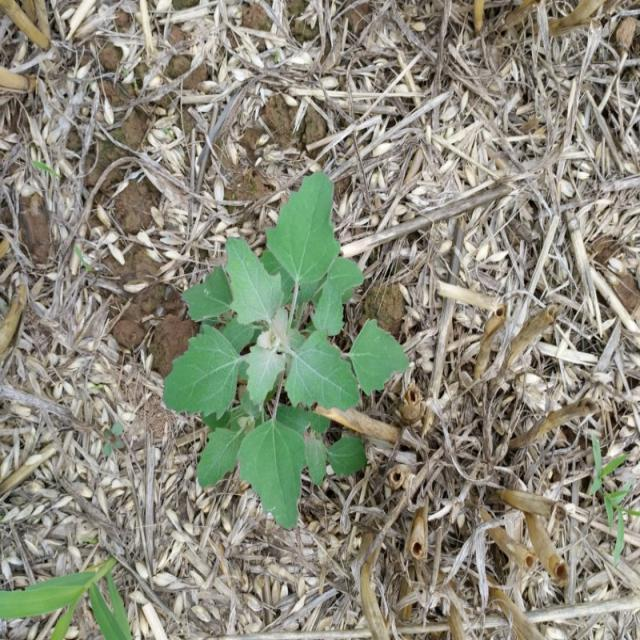goosefoots: (158, 160, 397, 506)
